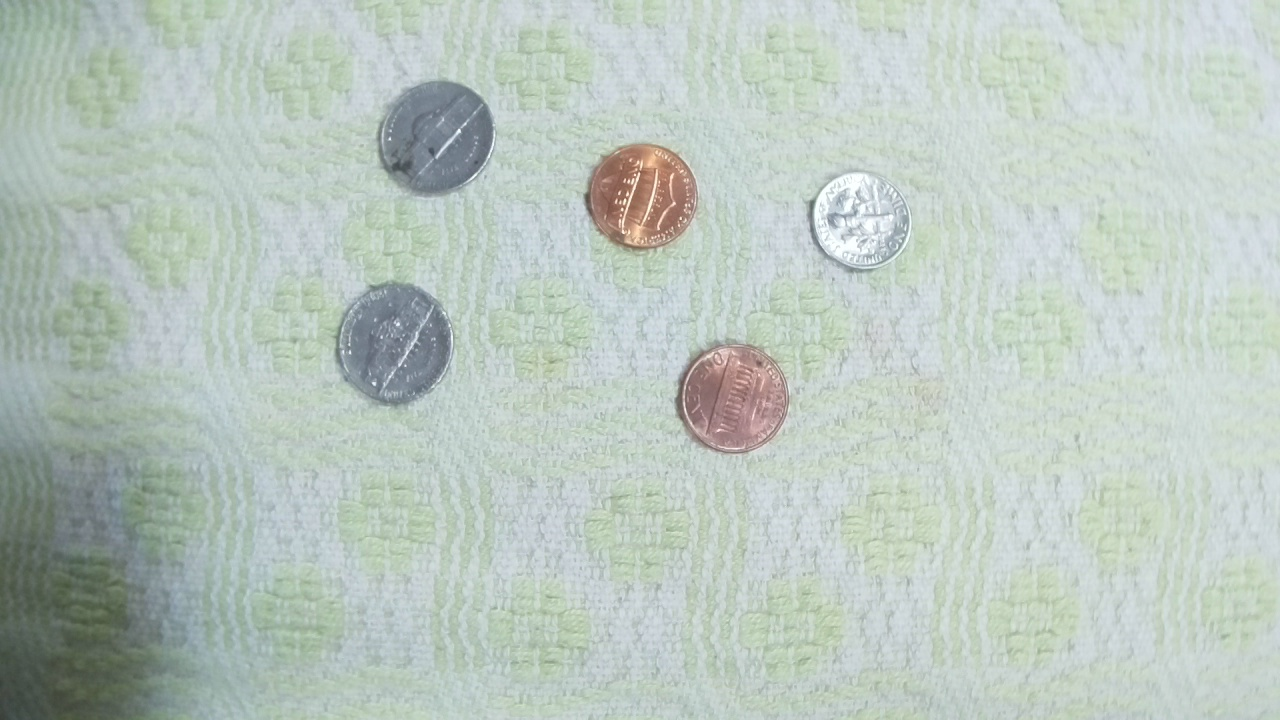dime: (806, 167, 914, 271)
nickel: (364, 70, 510, 206), (332, 280, 456, 406)
penny: (675, 340, 793, 456), (585, 138, 701, 252)
